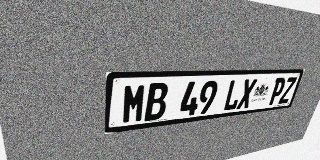4: (179, 81, 202, 117)
9: (196, 80, 219, 115)
B: (144, 82, 169, 121)
L: (222, 79, 244, 111)
M: (121, 83, 147, 124)
P: (267, 77, 287, 105)
X: (236, 79, 257, 109)
Z: (278, 77, 297, 104)
